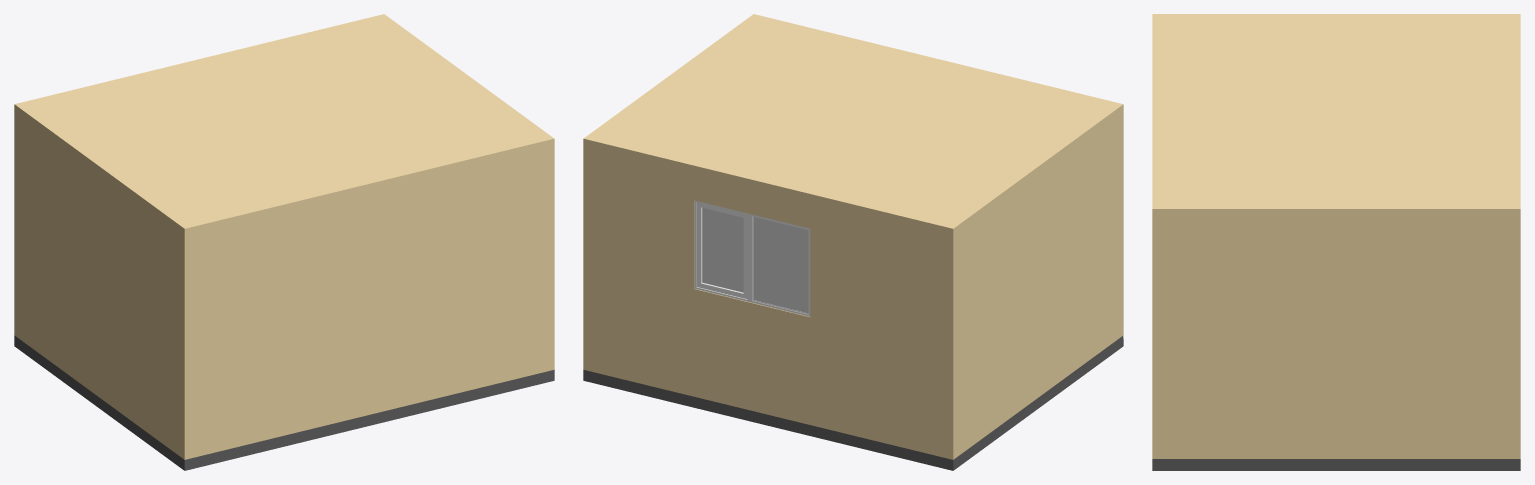
Rendered from FloorPlan24_physics.fbx.
3 renders of one model, left to right at view 1: azimuth 30°, elevation 25°; view 2: azimuth 150°, elevation 25°; view 3: azimuth 270°, elevation 25°, orthographic. The views are drawn at different scales.
Parts seen in each view (by area): view 1: Room.028, Ceiling, Floor1; view 2: Room.028, Ceiling, WindowPane, Floor1, WindowFrame; view 3: Room.028, Ceiling, Floor1.
Part boxes in pixels (<box>): Room.028: <box>14,117,554,459</box>; Ceiling: <box>14,14,554,241</box>; Floor1: <box>14,335,554,470</box>; Room.028: <box>583,117,1123,459</box>; Ceiling: <box>583,14,1123,241</box>; WindowPane: <box>702,208,808,313</box>; Floor1: <box>583,336,1123,470</box>; WindowFrame: <box>694,200,810,316</box>; Room.028: <box>1152,223,1520,458</box>; Ceiling: <box>1152,14,1520,223</box>; Floor1: <box>1152,459,1520,470</box>.
Bounding box in the file's own units: 426 × 266 × 340.
